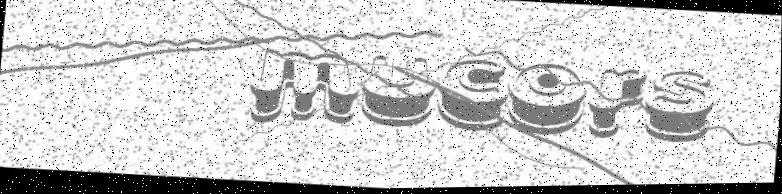c: (435, 58, 511, 135)
m: (248, 48, 362, 129)
o: (505, 62, 589, 139)
r: (586, 69, 647, 144)
s: (642, 70, 716, 147)
u: (358, 56, 438, 131)
